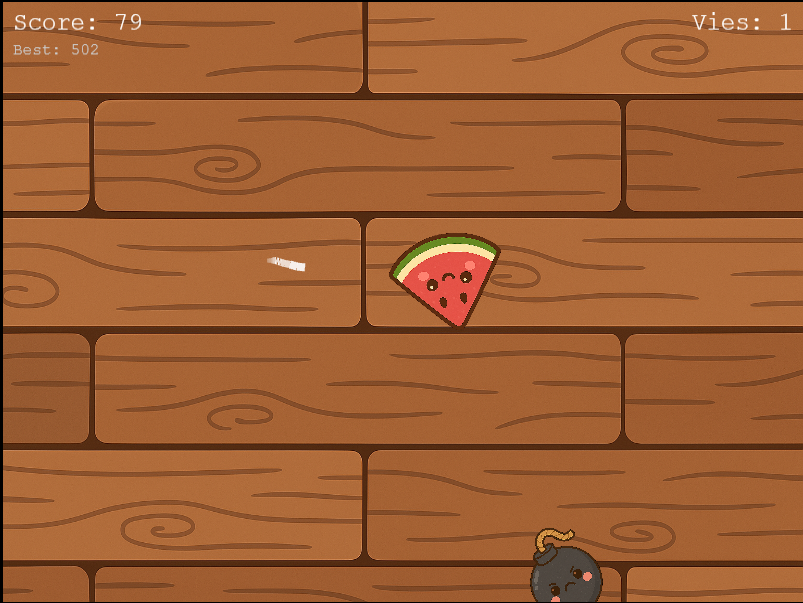bomb: (524, 520, 606, 603)
fruit: (383, 217, 510, 344)
